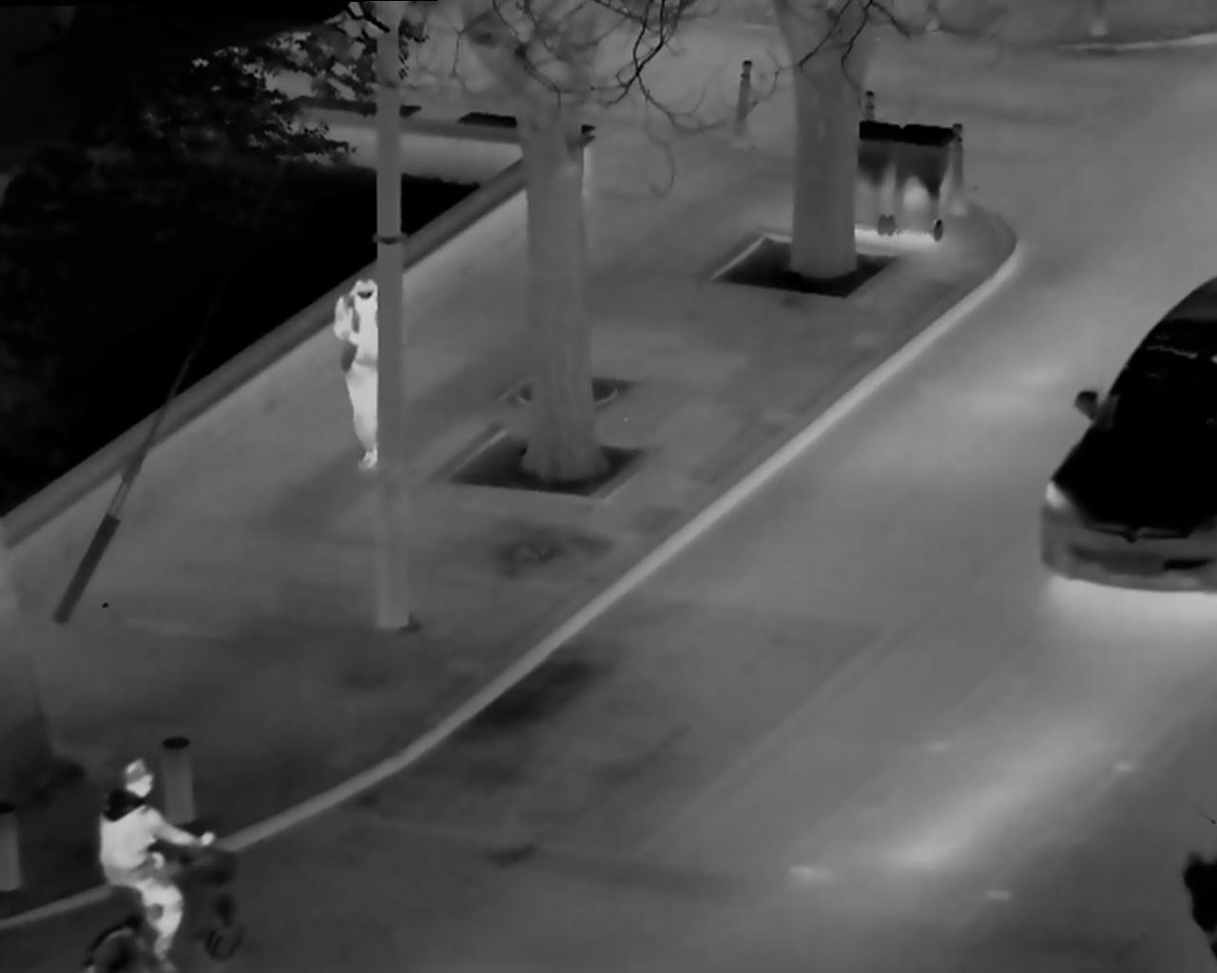person: (78, 740, 216, 959), (322, 267, 411, 493)
